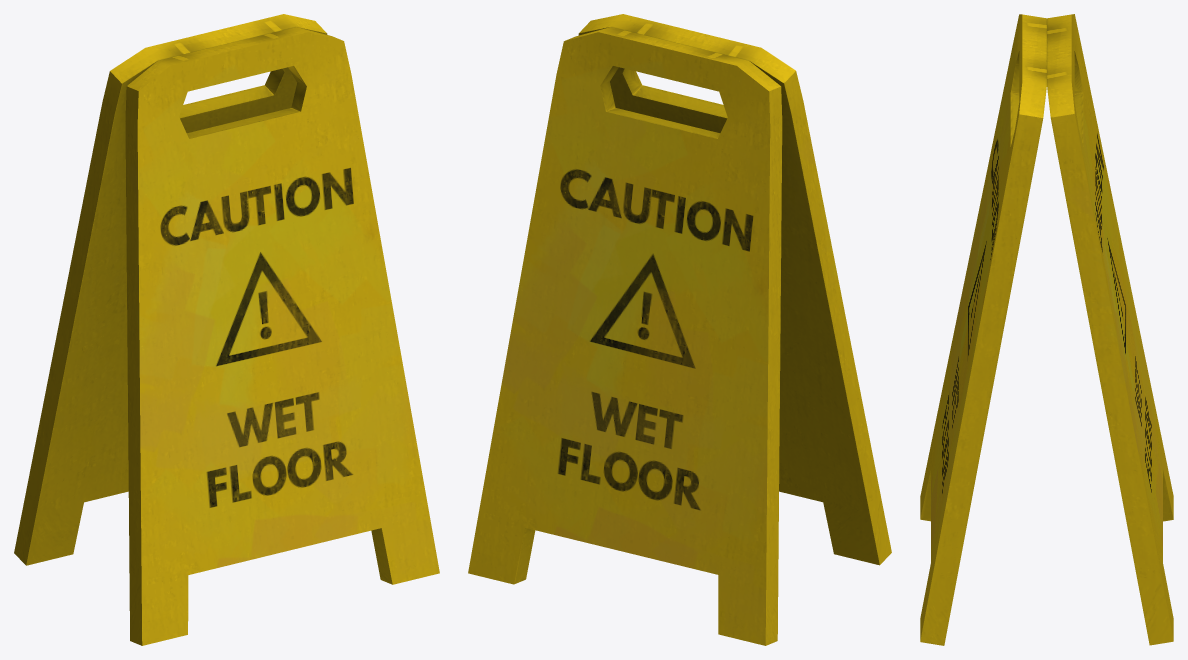
File: prop_wetfloor_sign.fbx
3 views of the same model, side by side, from view 1: azimuth 30°, elevation 25°; view 2: azimuth 150°, elevation 25°; view 3: azimuth 270°, elevation 25° (orthographic).
Parts seen in each view (by area): view 1: wetfloor_sign2; view 2: wetfloor_sign2; view 3: wetfloor_sign2.
Boxes of the visible parts, bbox=[...] form: wetfloor_sign2: bbox=[14, 14, 439, 645]; wetfloor_sign2: bbox=[468, 14, 891, 645]; wetfloor_sign2: bbox=[920, 14, 1173, 645].
Bounding box in the file's own units: 45.1 × 76.06 × 33.28.
Materials: 1 (1 with a texture image).
